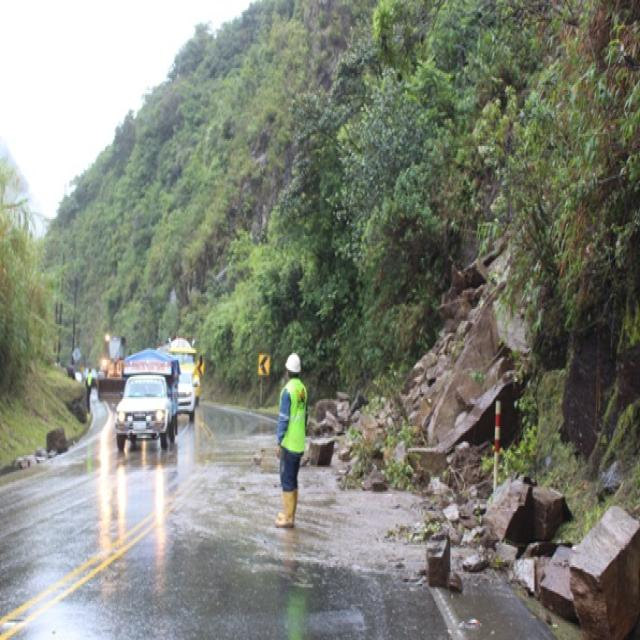CMT: (114, 374, 177, 450)
